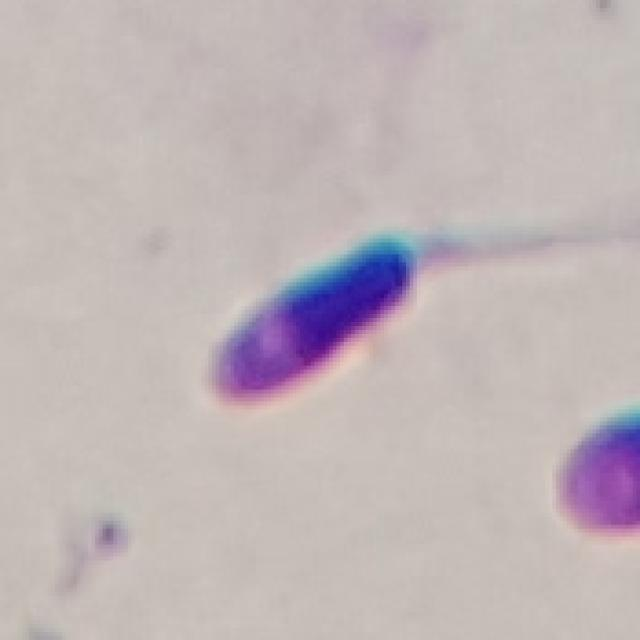abnormal sperm: (189, 203, 640, 426)
